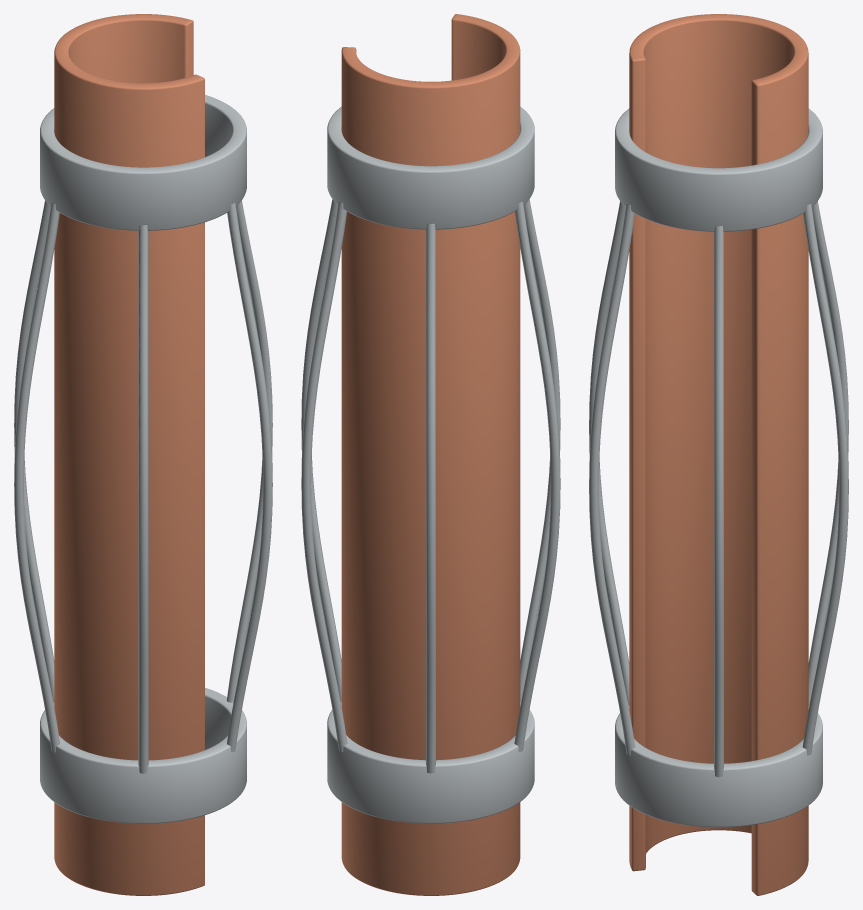
File: centralizer.glb
3 renders of one model, left to right at view 1: azimuth 30°, elevation 25°; view 2: azimuth 150°, elevation 25°; view 3: azimuth 270°, elevation 25°, orthographic.
Visible parts, largest first — view 1: Casing, Top collar, Bottom collar, Bow 4, Bow 5, Bow 3, Bow 0, Bow 2; view 2: Casing, Top collar, Bottom collar, Bow 1, Bow 3, Bow 2, Bow 4, Bow 0; view 3: Casing, Top collar, Bottom collar, Bow 1, Bow 5, Bow 0, Bow 2, Bow 4.
Boxes of the visible parts, left/top/right/bottom form: Casing: left=54, top=14, right=204, bottom=895; Top collar: left=40, top=95, right=246, bottom=230; Bottom collar: left=40, top=688, right=246, bottom=823; Bow 4: left=138, top=225, right=148, bottom=773; Bow 5: left=227, top=201, right=272, bottom=752; Bow 3: left=14, top=201, right=59, bottom=752; Bow 0: left=226, top=200, right=272, bottom=702; Bow 2: left=14, top=200, right=54, bottom=702; Casing: left=341, top=14, right=520, bottom=895; Top collar: left=327, top=106, right=534, bottom=229; Bottom collar: left=327, top=702, right=534, bottom=823; Bow 1: left=301, top=200, right=347, bottom=751; Bow 3: left=514, top=200, right=560, bottom=751; Bow 2: left=426, top=223, right=435, bottom=773; Bow 4: left=520, top=199, right=560, bottom=702; Bow 0: left=301, top=199, right=341, bottom=702; Casing: left=629, top=14, right=808, bottom=895; Top collar: left=615, top=108, right=822, bottom=231; Bottom collar: left=615, top=706, right=822, bottom=827; Bow 1: left=802, top=202, right=848, bottom=755; Bow 5: left=589, top=202, right=635, bottom=755; Bow 0: left=714, top=226, right=723, bottom=777; Bow 2: left=808, top=201, right=848, bottom=705; Bow 4: left=589, top=201, right=629, bottom=705.
Bounding box in the file's own units: 2.07 × 6.2 × 1.8.
